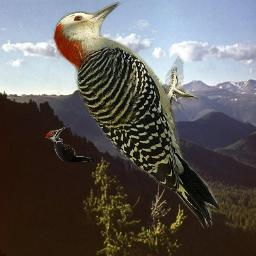Woodpecker: (48, 2, 223, 229), (42, 127, 94, 162)
